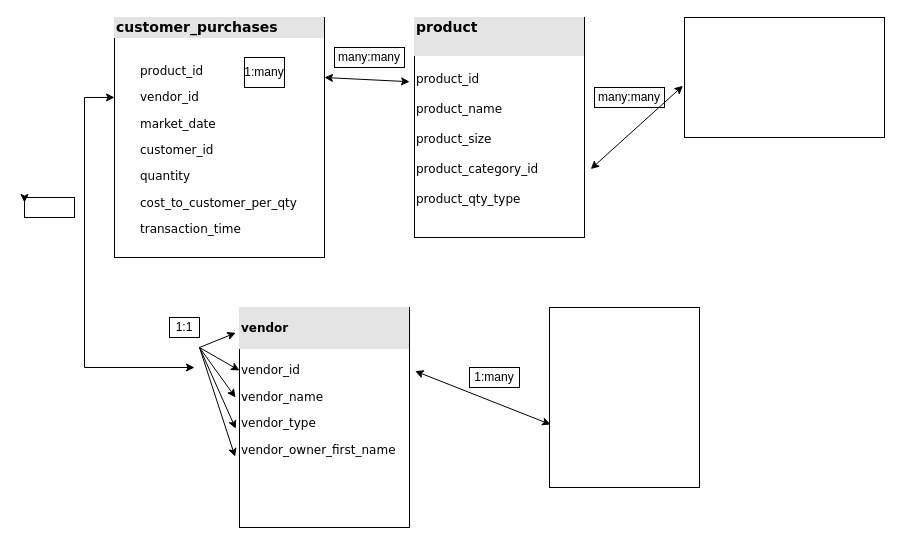
This 902x545 diagram has some shape labels left out. The box of each missing label's shape, as (x1, y1, x2, y2) in pixels:
many:1: (24, 196, 74, 218)
product_category product_category_id other fields: (684, 16, 884, 138)
vendor_inventory market_date quantity vendor_id product_id original_price: (548, 306, 700, 488)
